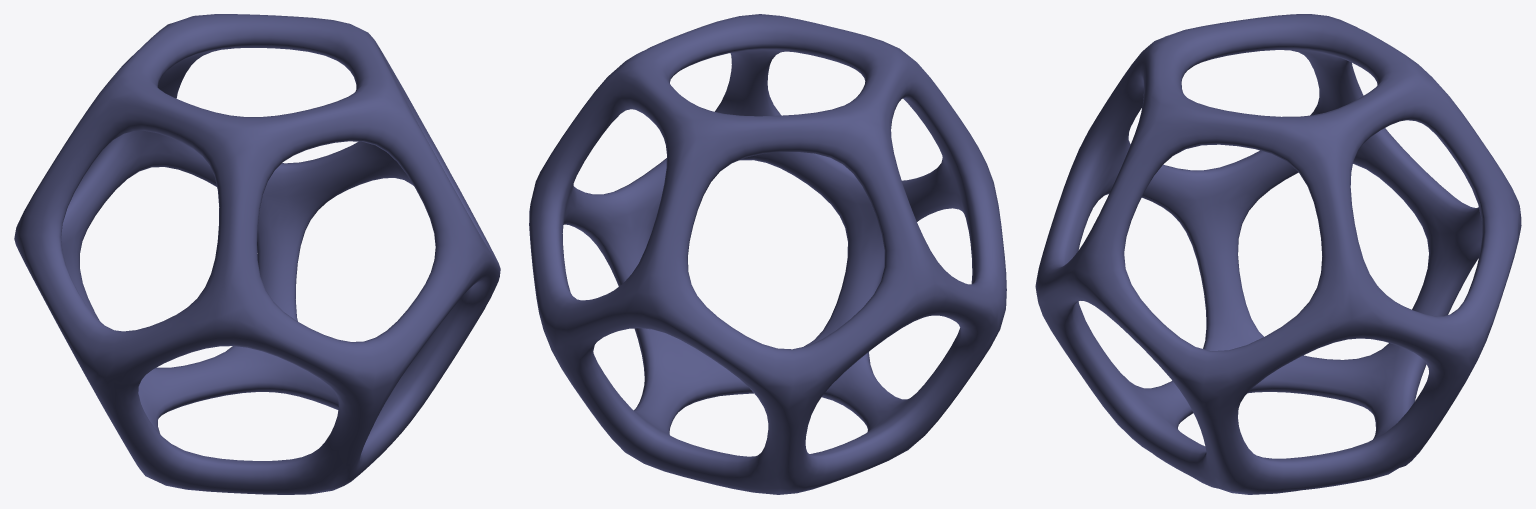
File: DadecaedrDark.glb
The picture shows the model from 3 angles, left to right: view 1: azimuth 30°, elevation 25°; view 2: azimuth 150°, elevation 25°; view 3: azimuth 270°, elevation 25°; orthographic projection.
Parts seen in each view (by area): view 1: Retopo_Dodecahedron; view 2: Retopo_Dodecahedron; view 3: Retopo_Dodecahedron.
Part boxes in pixels (box(x1,y1,x2,y2)): Retopo_Dodecahedron: box(14, 14, 500, 494); Retopo_Dodecahedron: box(529, 14, 1006, 494); Retopo_Dodecahedron: box(1035, 14, 1521, 494).
Bounding box in the file's own units: 2.59 × 2.23 × 2.65.
1 material, 1 textured.
